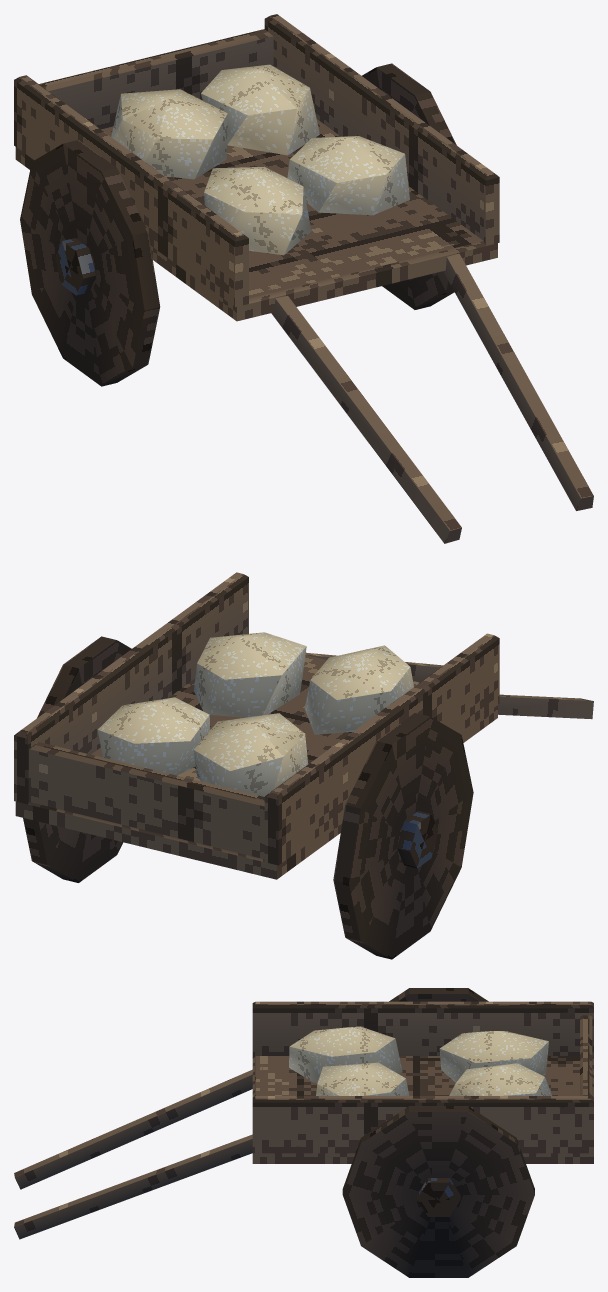
File: mprop.cart__sacks.glb
3 views of the same model, one above another, from view 1: azimuth 30°, elevation 25°; view 2: azimuth 150°, elevation 25°; view 3: azimuth 270°, elevation 25° (orthographic). The views are drawn at different scales.
Visible parts, largest first — view 1: kit_bed, kit_load, kit_wheels; view 2: kit_bed, kit_wheels, kit_load; view 3: kit_bed, kit_wheels, kit_load.
Boxes of the visible parts, x1=… form: kit_bed: x1=14, y1=14, x2=593, y2=543; kit_load: x1=111, y1=64, x2=409, y2=255; kit_wheels: x1=20, y1=63, x2=456, y2=386; kit_bed: x1=14, y1=572, x2=593, y2=879; kit_wheels: x1=23, y1=636, x2=473, y2=959; kit_load: x1=97, y1=632, x2=413, y2=796; kit_bed: x1=14, y1=1001, x2=593, y2=1239; kit_wheels: x1=342, y1=988, x2=534, y2=1277; kit_load: x1=289, y1=1026, x2=552, y2=1095.
Bounding box in the file's own units: 2.04 × 1.2 × 3.74.
Materials: 5 (5 with a texture image).
